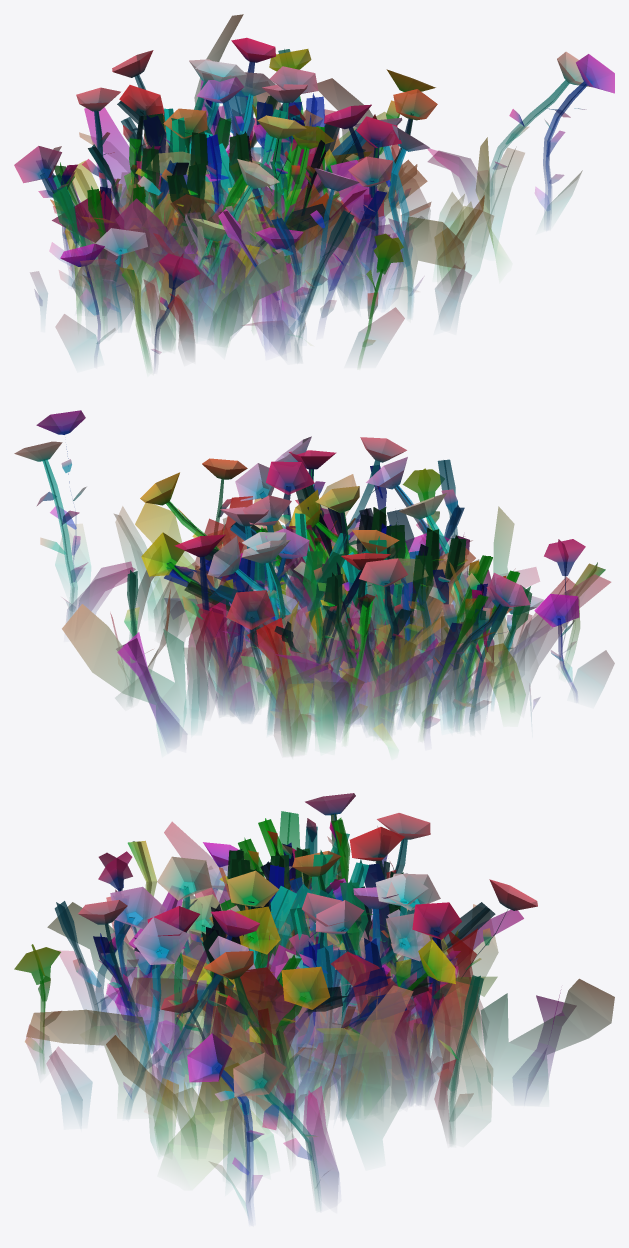
File: uegjcflia_tier_1.gltf
The picture shows the model from 3 angles, top to bottom: view 1: azimuth 30°, elevation 25°; view 2: azimuth 150°, elevation 25°; view 3: azimuth 270°, elevation 25°; orthographic projection. The views are drawn at different scales.
Parts seen in each view (by area): view 1: SM_uegjcflia_VarB, SM_uegjcflia_VarH, SM_uegjcflia_VarG, SM_uegjcflia_VarA, SM_uegjcflia_VarF, SM_uegjcflia_VarE, SM_uegjcflia_VarD, SM_uegjcflia_VarC; view 2: SM_uegjcflia_VarB, SM_uegjcflia_VarH, SM_uegjcflia_VarG, SM_uegjcflia_VarF, SM_uegjcflia_VarE, SM_uegjcflia_VarD, SM_uegjcflia_VarA, SM_uegjcflia_VarC; view 3: SM_uegjcflia_VarB, SM_uegjcflia_VarH, SM_uegjcflia_VarG, SM_uegjcflia_VarF, SM_uegjcflia_VarA, SM_uegjcflia_VarE, SM_uegjcflia_VarD, SM_uegjcflia_VarC.
Boxes of the visible parts, x1=… form: SM_uegjcflia_VarB: x1=30, y1=49, x2=614, y2=358; SM_uegjcflia_VarH: x1=65, y1=14, x2=494, y2=355; SM_uegjcflia_VarG: x1=14, y1=37, x2=437, y2=328; SM_uegjcflia_VarA: x1=52, y1=159, x2=427, y2=367; SM_uegjcflia_VarF: x1=72, y1=66, x2=435, y2=351; SM_uegjcflia_VarE: x1=52, y1=91, x2=357, y2=294; SM_uegjcflia_VarD: x1=53, y1=111, x2=392, y2=299; SM_uegjcflia_VarC: x1=120, y1=171, x2=352, y2=322; SM_uegjcflia_VarB: x1=14, y1=410, x2=610, y2=737; SM_uegjcflia_VarH: x1=62, y1=465, x2=574, y2=754; SM_uegjcflia_VarG: x1=141, y1=458, x2=530, y2=731; SM_uegjcflia_VarF: x1=140, y1=437, x2=467, y2=735; SM_uegjcflia_VarE: x1=205, y1=508, x2=492, y2=728; SM_uegjcflia_VarD: x1=165, y1=509, x2=519, y2=727; SM_uegjcflia_VarA: x1=208, y1=468, x2=614, y2=703; SM_uegjcflia_VarC: x1=227, y1=545, x2=434, y2=744; SM_uegjcflia_VarB: x1=26, y1=811, x2=537, y2=1218; SM_uegjcflia_VarH: x1=93, y1=853, x2=614, y2=1151; SM_uegjcflia_VarG: x1=152, y1=793, x2=497, y2=1113; SM_uegjcflia_VarF: x1=77, y1=850, x2=433, y2=1127; SM_uegjcflia_VarA: x1=14, y1=840, x2=337, y2=1128; SM_uegjcflia_VarE: x1=127, y1=821, x2=523, y2=1099; SM_uegjcflia_VarD: x1=134, y1=818, x2=417, y2=1109; SM_uegjcflia_VarC: x1=199, y1=936, x2=434, y2=1110.
Size of what is drawn, in the model's own units: 0.2755 by 0.0911 by 0.2267.
